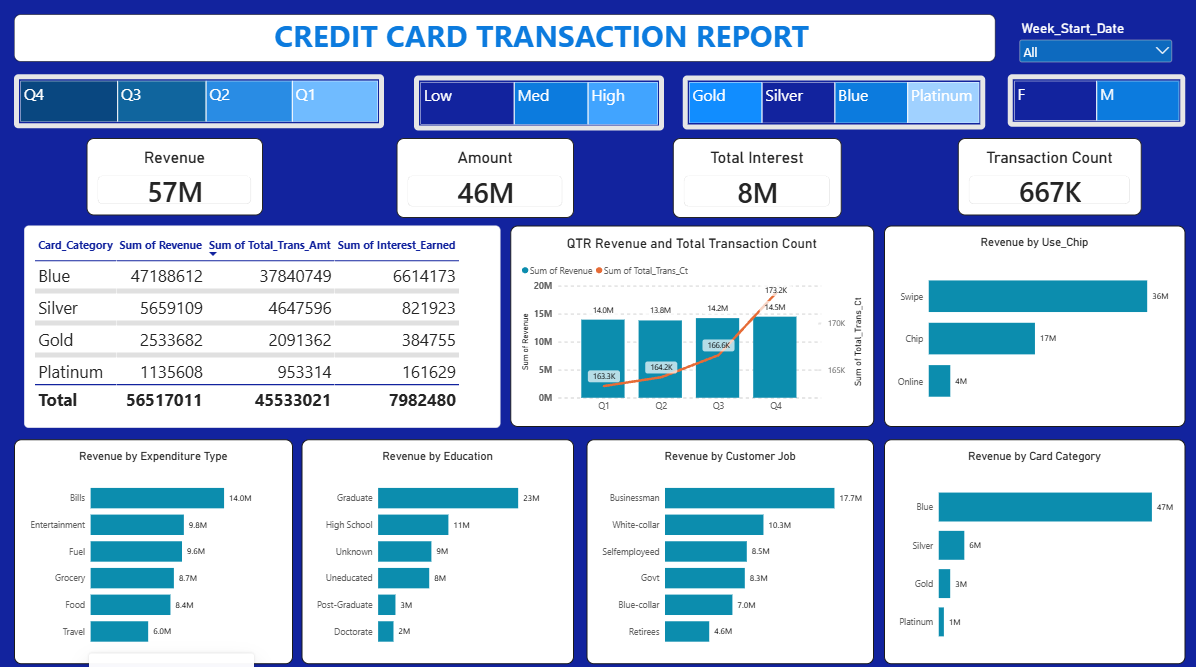

The dashboard page shown, as its layout file describes it:
{"tool":"powerbi","page":{"name":"CC Transaction Report","canvas":[1920,1080],"ordinal":1},"visuals":[{"type":"textbox","box":[24,26,1570,76],"z":0},{"type":"lineStackedColumnComboChart","title":"QTR Revenue and Total Transaction Count","fields":{"Category":["ccdb cc_detail.Qtr"],"Y":["Sum(ccdb cc_detail.Revenue)"],"Y2":["Sum(ccdb cc_detail.Total_Trans_Ct)"]},"box":[818,364,582,322],"z":1000},{"type":"barChart","title":" Revenue by Expenditure Type","fields":{"Category":["ccdb cc_detail.Exp_Type"],"Y":["Sum(ccdb cc_detail.Revenue)"]},"box":[24,706,446,360],"z":2000},{"type":"barChart","title":" Revenue by Education","fields":{"Category":["ccdb cust_detail.Education_Level"],"Y":["Sum(ccdb cc_detail.Revenue)"]},"box":[484,706,436,360],"z":3000},{"type":"barChart","title":" Revenue by Customer Job","fields":{"Category":["ccdb cust_detail.Customer_Job"],"Y":["Sum(ccdb cc_detail.Revenue)"]},"box":[940,706,460,360],"z":4000},{"type":"barChart","title":" Revenue by Card Category","fields":{"Category":["ccdb cc_detail.Card_Category"],"Y":["Sum(ccdb cc_detail.Revenue)"]},"box":[1416,706,482,360],"z":5000},{"type":"barChart","title":" Revenue by Use_Chip ","fields":{"Category":["ccdb cc_detail.Use_Chip"],"Y":["Sum(ccdb cc_detail.Revenue)"]},"box":[1416,364,482,322],"z":6000},{"type":"tableEx","fields":{"Values":["ccdb cc_detail.Card_Category","Sum(ccdb cc_detail.Revenue)","Sum(ccdb cc_detail.Total_Trans_Amt)","Sum(ccdb cc_detail.Interest_Earned)"]},"box":[40,364,762,324],"z":7000},{"type":"cardVisual","title":"Revenue","fields":{"Data":["Sum(ccdb cc_detail.Revenue)"]},"box":[140,224,282,124],"z":8000},{"type":"cardVisual","title":"Amount","fields":{"Data":["Sum(ccdb cc_detail.Total_Trans_Amt)"]},"box":[636,224,284,128],"z":9000},{"type":"cardVisual","title":"Total Interest","fields":{"Data":["Sum(ccdb cc_detail.Interest_Earned)"]},"box":[1078,224,270,128],"z":10000},{"type":"cardVisual","title":"Transaction Count","fields":{"Data":["Sum(ccdb cc_detail.Total_Trans_Ct)"]},"box":[1534,224,294,124],"z":11000},{"type":"slicer","title":"Week_Start_Date","fields":{"Values":["ccdb cc_detail.Week_Start_Date"]},"box":[1612,22,286,84],"z":12000},{"type":"treemap","fields":{"Group":["ccdb cc_detail.Qtr"],"Values":["Avg(ccdb cc_detail.Client_Num)"]},"box":[24,122,592,86],"z":13000},{"type":"treemap","fields":{"Group":["ccdb cust_detail.Gender"],"Values":["Avg(ccdb cc_detail.Client_Num)"]},"box":[1614,122,284,84],"z":14000},{"type":"treemap","fields":{"Group":["ccdb cc_detail.Card_Category"],"Values":["Avg(ccdb cc_detail.Client_Num)"]},"box":[1094,124,484,86],"z":15000},{"type":"treemap","fields":{"Group":["ccdb cust_detail.IncomeGroup"],"Values":["CountNonNull(ccdb cc_detail.Client_Num)"]},"box":[664,124,400,88],"z":16000}]}

Visuals, with their boxes in screenshot pixels (x1, y1, x2, y2), scaled from the page's 1920x1080 canvas onto the 1196x667 screenshot:
textbox: (15, 16, 993, 63)
"QTR Revenue and Total Transaction Count" lineStackedColumnComboChart: (510, 225, 872, 424)
" Revenue by Expenditure Type" barChart: (15, 436, 293, 658)
" Revenue by Education" barChart: (301, 436, 573, 658)
" Revenue by Customer Job" barChart: (586, 436, 872, 658)
" Revenue by Card Category" barChart: (882, 436, 1182, 658)
" Revenue by Use_Chip " barChart: (882, 225, 1182, 424)
tableEx - ccdb cc_detail.Card_Category x Sum(ccdb cc_detail.Revenue): (25, 225, 500, 425)
"Revenue" cardVisual: (87, 138, 263, 215)
"Amount" cardVisual: (396, 138, 573, 217)
"Total Interest" cardVisual: (672, 138, 840, 217)
"Transaction Count" cardVisual: (956, 138, 1139, 215)
"Week_Start_Date" slicer: (1004, 14, 1182, 65)
treemap - ccdb cc_detail.Qtr x Avg(ccdb cc_detail.Client_Num): (15, 75, 384, 128)
treemap - ccdb cust_detail.Gender x Avg(ccdb cc_detail.Client_Num): (1005, 75, 1182, 127)
treemap - ccdb cc_detail.Card_Category x Avg(ccdb cc_detail.Client_Num): (681, 77, 983, 130)
treemap - ccdb cust_detail.IncomeGroup x CountNonNull(ccdb cc_detail.Client_Num): (414, 77, 663, 131)
